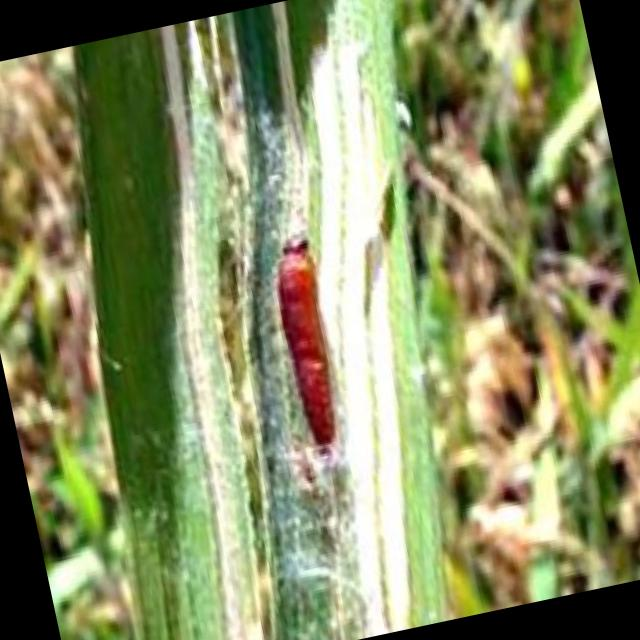leaf-folder: (256, 211, 377, 451)
